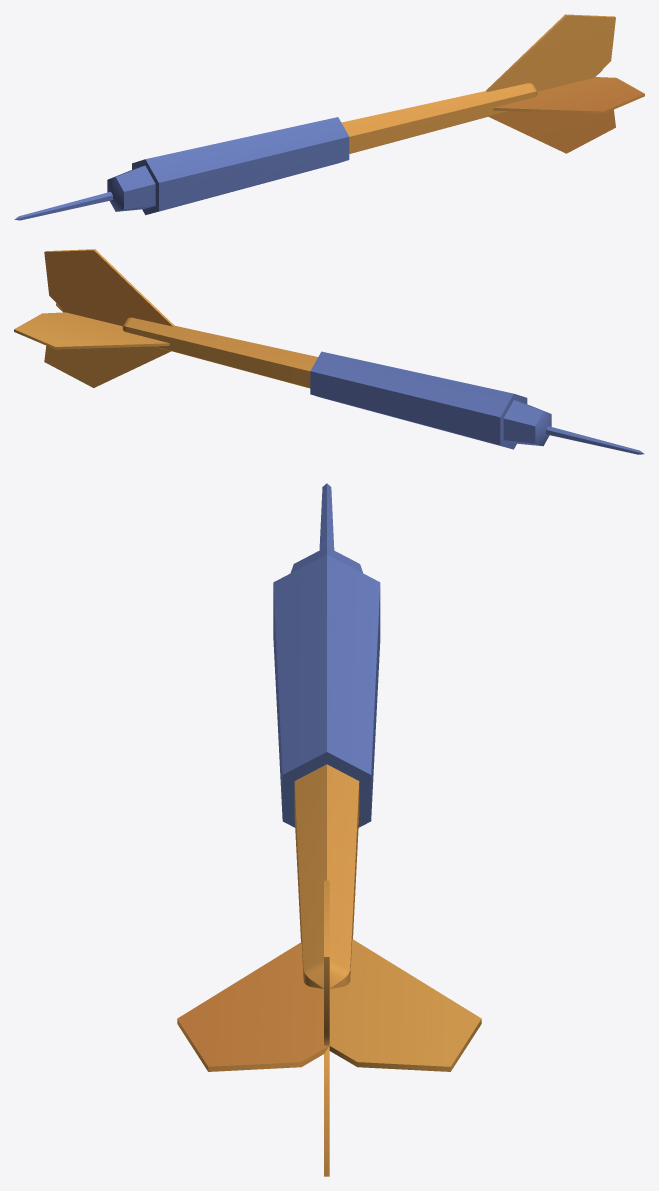
The model's file is MSH_DardoDecorativo2.fbx.
3 views of the same model, one above another, from view 1: azimuth 30°, elevation 25°; view 2: azimuth 150°, elevation 25°; view 3: azimuth 270°, elevation 25° (orthographic). The views are drawn at different scales.
Parts seen in each view (by area): view 1: MSH_DardoDecorativo2; view 2: MSH_DardoDecorativo2; view 3: MSH_DardoDecorativo2.
Boxes of the visible parts, x1,y1,x2,y2 form: MSH_DardoDecorativo2: [14, 14, 644, 220]; MSH_DardoDecorativo2: [14, 249, 644, 454]; MSH_DardoDecorativo2: [177, 483, 481, 1176].
Bounding box in the file's own units: 17.64 × 3.88 × 3.88.
